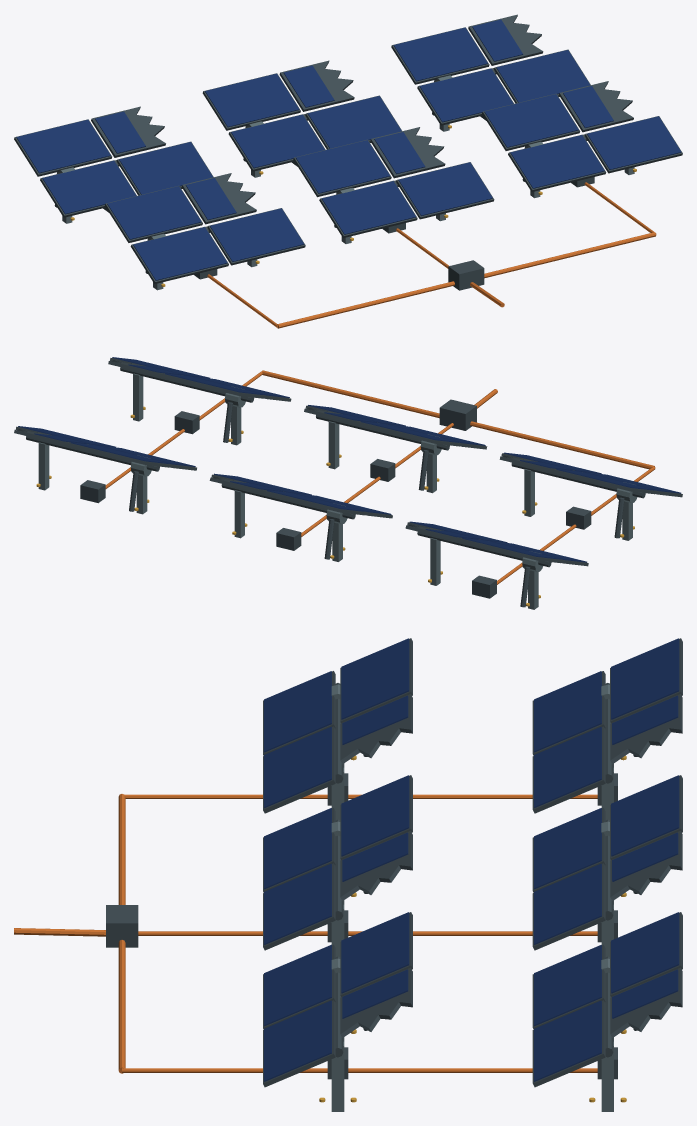
File: solar_array_d1.glb
3 views of the same model, one above another, from view 1: azimuth 30°, elevation 25°; view 2: azimuth 150°, elevation 25°; view 3: azimuth 270°, elevation 25° (orthographic). The views are drawn at different scales.
Parts seen in each view (by area): view 1: SOLAR_GAME_MESH; view 2: SOLAR_GAME_MESH; view 3: SOLAR_GAME_MESH.
Boxes of the visible parts, x1,y1,x2,y2 form: SOLAR_GAME_MESH: [14, 14, 682, 328]; SOLAR_GAME_MESH: [14, 357, 682, 609]; SOLAR_GAME_MESH: [14, 638, 682, 1111].
Bounding box in the file's own units: 16.79 × 2.24 × 12.39.
